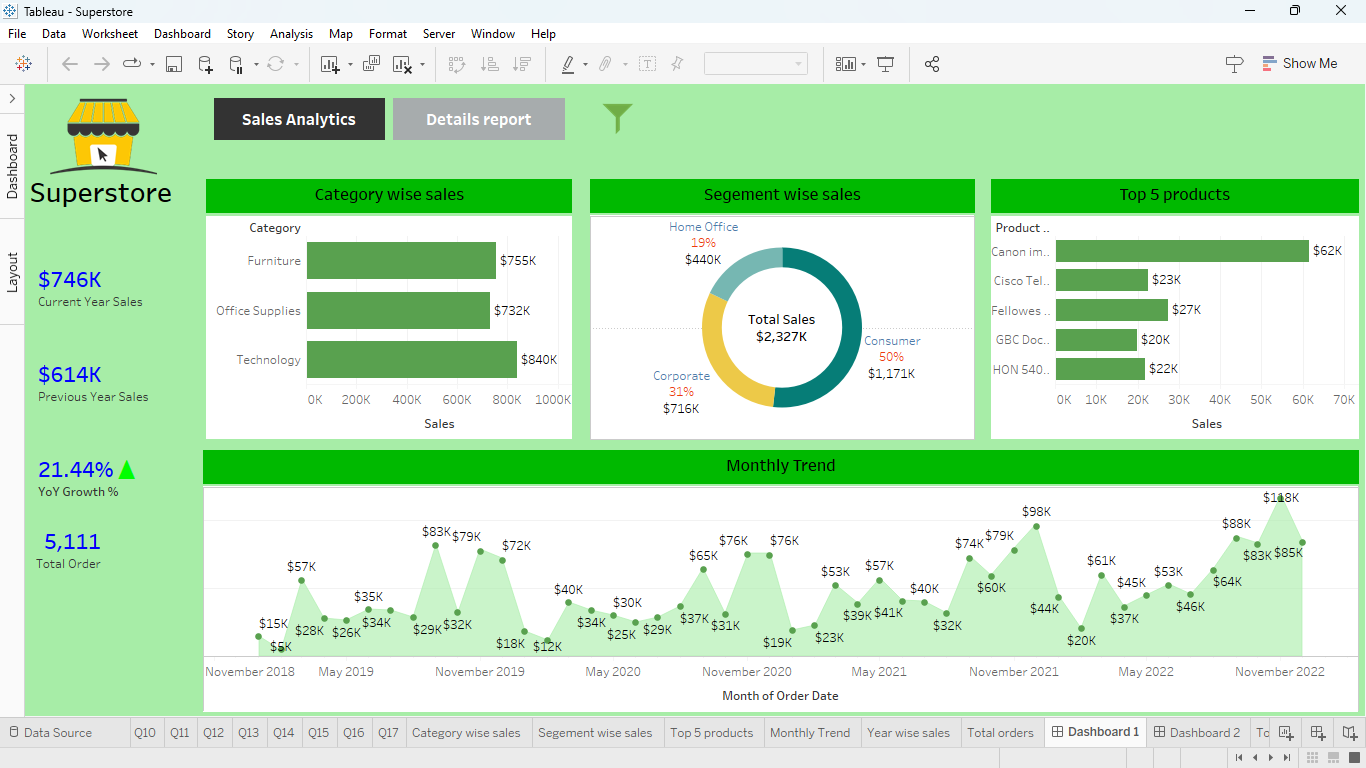

Layout of this report page (visuals, bound fields, positions):
{"tool":"tableau","page":{"name":"Dashboard 1","canvas":[1000,1000],"units":"permille","ordinal":0},"visuals":[{"type":"filter","title":"Monthly Trend","param":"[federated.1n591da1jfszub11jpy521dzq3dk].[none:Category:nk]","box":[473.2,6.3,462.9,39.6]},{"type":"image","param":"C:/Users/ratan/OneDrive/Pictures/Store logo.png","box":[19,19,116.6,125]},{"type":"dashboard-object","box":[140.8,22.2,127.8,66.5]},{"type":"dashboard-object","box":[274.6,22.2,128.7,66.5]},{"type":"dashboard-object","box":[417.1,22.2,49.2,64.9]},{"type":"filter","title":"Monthly Trend","param":"[federated.1n591da1jfszub11jpy521dzq3dk].[none:Region:nk]","box":[473.2,45.9,462.9,39.6]},{"type":"filter","title":"Monthly Trend","param":"[federated.1n591da1jfszub11jpy521dzq3dk].[yr:Calculation_268527161149886471:ok]","box":[473.2,85.4,462.9,39.6]},{"type":"text","box":[1.7,137.7,128.7,64.9]},{"type":"worksheet","title":"Category wise sales","mark":"Automatic","rows":["Category"],"cols":["Sales"],"box":[134.7,150.3,273.8,411.4]},{"type":"worksheet","title":"Segement wise sales","mark":"Pie","rows":["Calculation_268527161120133122","Calculation_268527161120133122"],"box":[421.4,150.3,287.6,413]},{"type":"worksheet","title":"Top 5 products","mark":"Automatic","rows":["Product Name"],"cols":["Sales"],"box":[721.1,150.3,274.6,411.4]},{"type":"worksheet","title":"Year wise sales","mark":"Automatic","box":[6.9,286.4,106.2,484.2]},{"type":"worksheet","title":"Monthly Trend","mark":"Area","rows":["Sales","Sales"],"cols":["Order Date"],"box":[133,579.1,862.7,414.6]},{"type":"worksheet","title":"Total orders","mark":"Automatic","box":[0,701,73.4,82.3]}]}

Visuals, with their boxes on the dashboard's canvas, which has no fixed pixel size, in thousandths of its width and height (x1, y1, x2, y2). These are canvas units, not pixel positions in the 1366x768 screenshot, which may show the page scaled, cropped or inside an application window:
"Monthly Trend" filter: 473:6:936:46
image: 19:19:136:144
dashboard-object: 141:22:269:89
dashboard-object: 275:22:403:89
dashboard-object: 417:22:466:87
"Monthly Trend" filter: 473:46:936:86
"Monthly Trend" filter: 473:85:936:125
text: 2:138:130:203
"Category wise sales" worksheet: 135:150:408:562
"Segement wise sales" worksheet (Pie marks): 421:150:709:563
"Top 5 products" worksheet: 721:150:996:562
"Year wise sales" worksheet: 7:286:113:771
"Monthly Trend" worksheet (Area marks): 133:579:996:994
"Total orders" worksheet: 0:701:73:783
